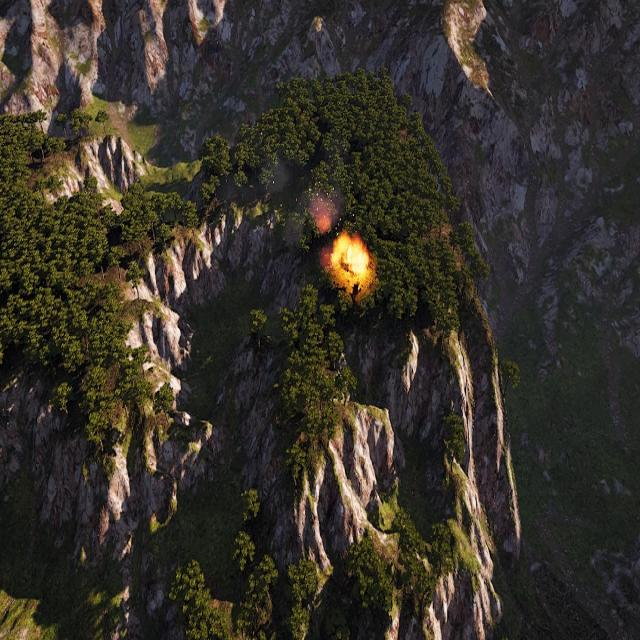fire: (331, 234, 371, 282)
smoke: (287, 185, 345, 253)
